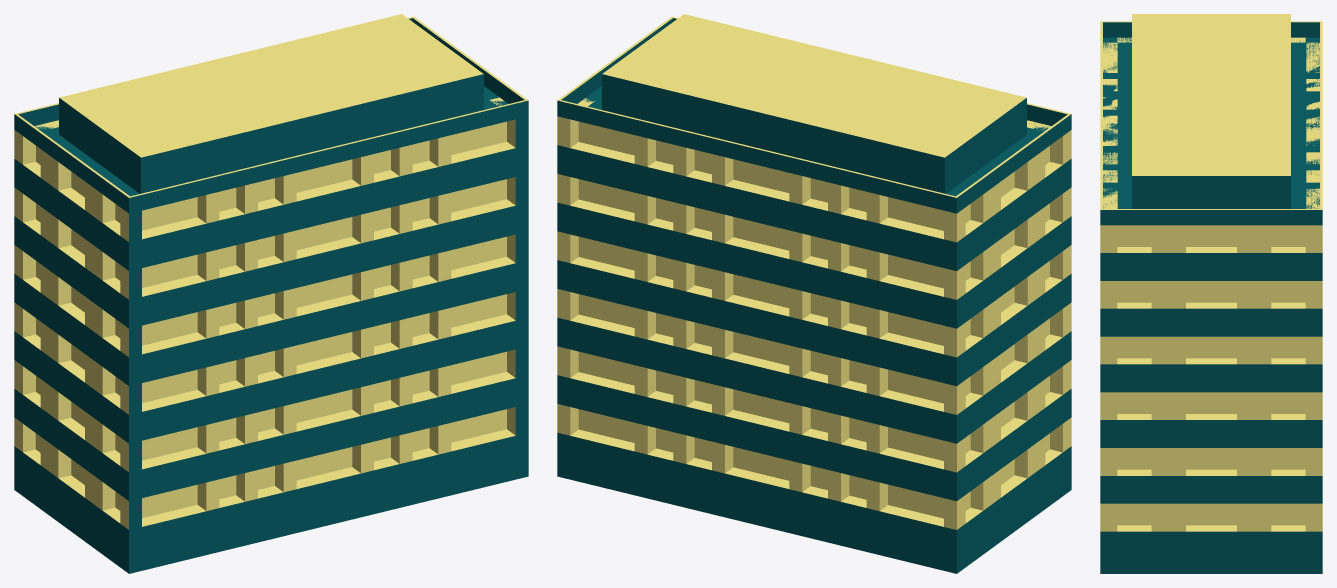
File: Chung cu 3.fbx
3 renders of one model, left to right at view 1: azimuth 30°, elevation 25°; view 2: azimuth 150°, elevation 25°; view 3: azimuth 270°, elevation 25°, orthographic. The views are drawn at different scales.
Visible parts, largest first — view 1: Chung cu; view 2: Chung cu; view 3: Chung cu.
Boxes of the visible parts, <box> form: Chung cu: <box>14,14,528,573</box>; Chung cu: <box>557,14,1071,573</box>; Chung cu: <box>1100,14,1322,573</box>.
Bounding box in the file's own units: 795 × 756 × 396.
